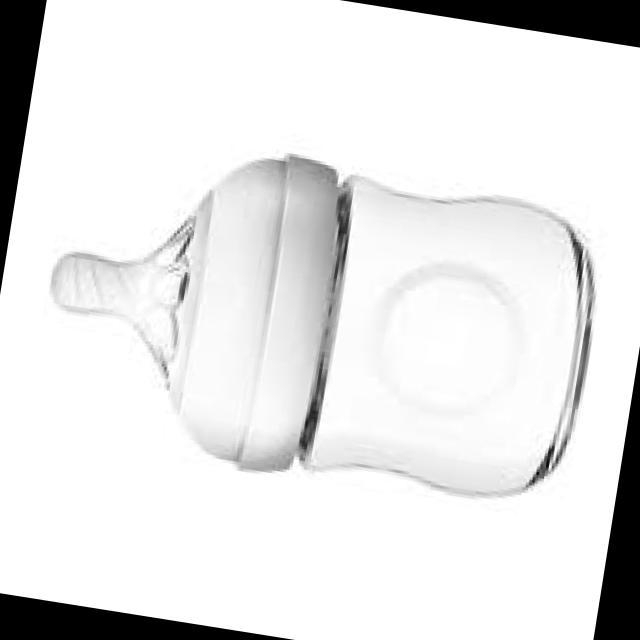good: (35, 75, 628, 602)
